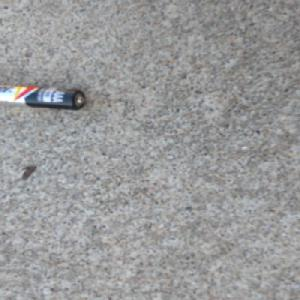Battery: (0, 84, 86, 111)
